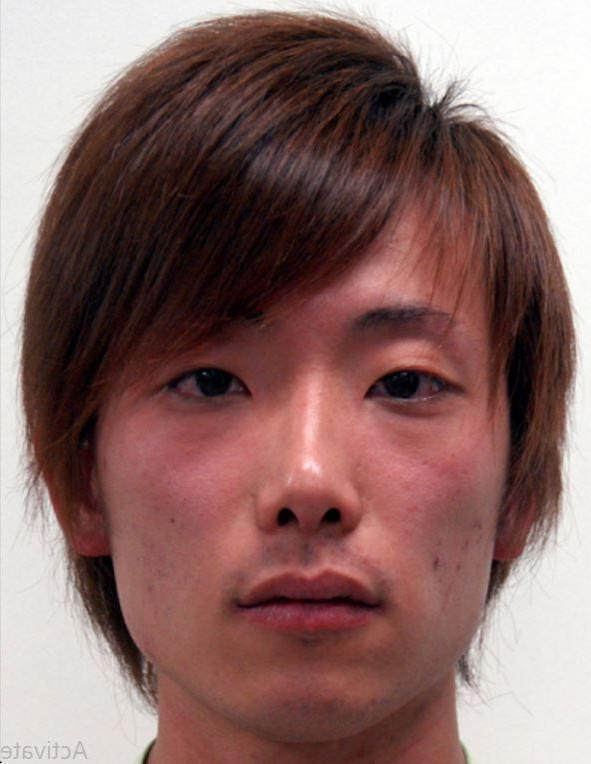Drunk: (94, 227, 491, 718)
